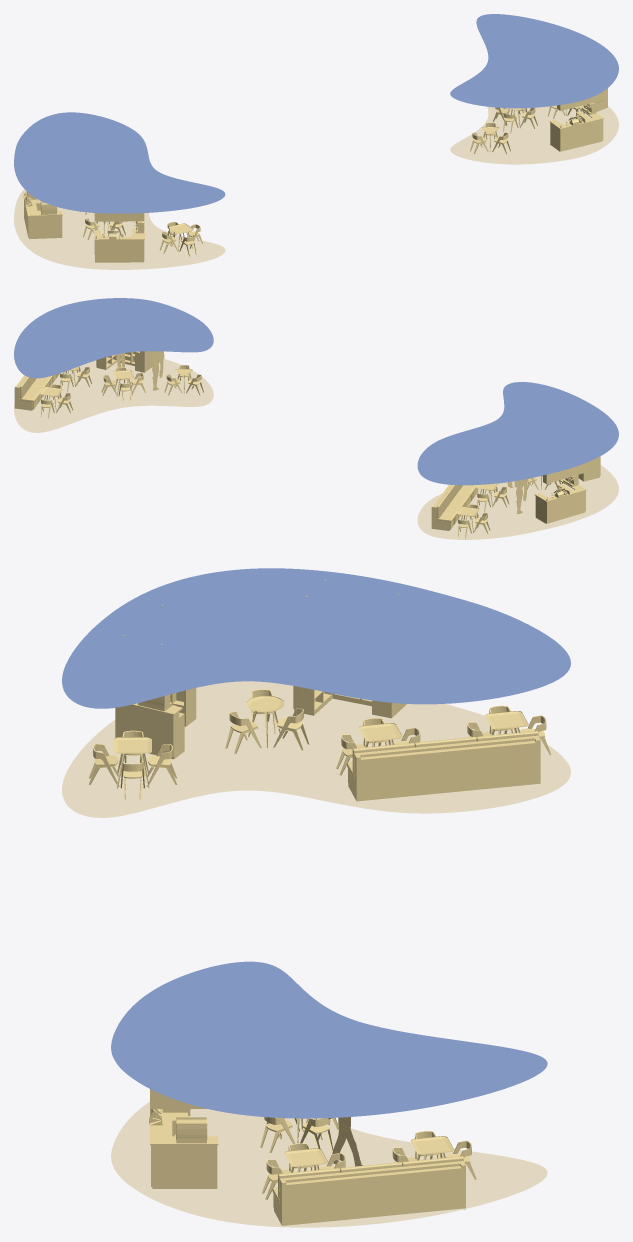
File: co-working_model.glb
3 renders of one model, top to bottom at view 1: azimuth 30°, elevation 25°; view 2: azimuth 150°, elevation 25°; view 3: azimuth 270°, elevation 25°, orthographic. The views are drawn at different scales.
Parts seen in each view (by area): view 1: roof, co- working space, Layer0; view 2: roof, co- working space, Layer0; view 3: roof, co- working space, Layer0.
Part boxes in pixels (x1,y1,x2,y2): roof: [14, 14, 618, 213]; co- working space: [14, 106, 618, 269]; Layer0: [23, 88, 607, 262]; roof: [14, 298, 618, 485]; co- working space: [14, 358, 618, 539]; Layer0: [14, 351, 600, 538]; roof: [62, 568, 570, 1118]; co- working space: [62, 681, 570, 1227]; Layer0: [88, 579, 551, 1225].
Bounding box in the file's own units: 24.13 × 2.25 × 9.42.
